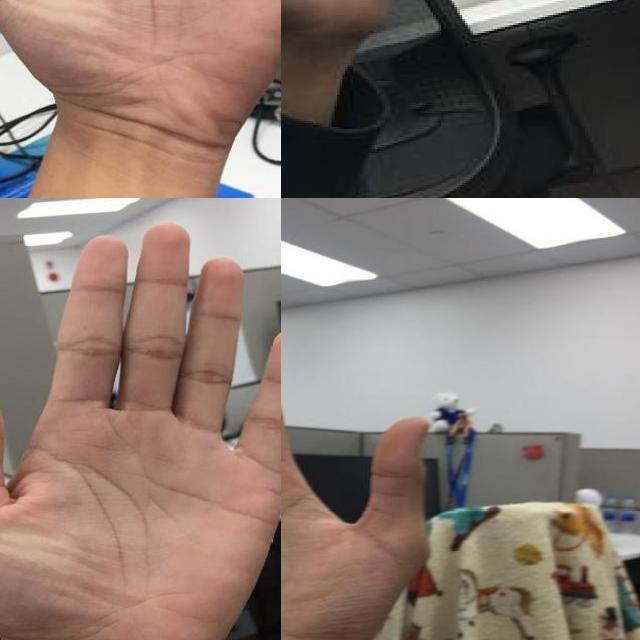no-gloves: (0, 223, 281, 640), (281, 323, 484, 640), (0, 0, 281, 198), (281, 0, 437, 173)
